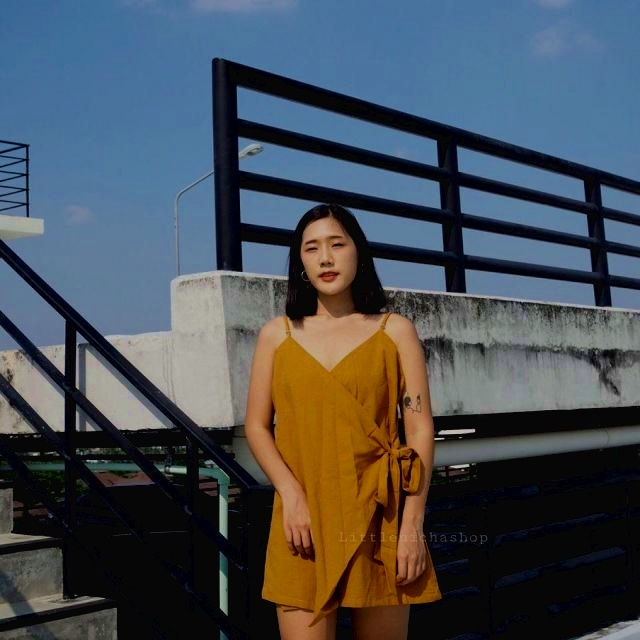Crop_Top: (269, 306, 399, 456)
Miniskirt: (259, 452, 444, 640)
Sleeveless: (251, 310, 434, 434)
